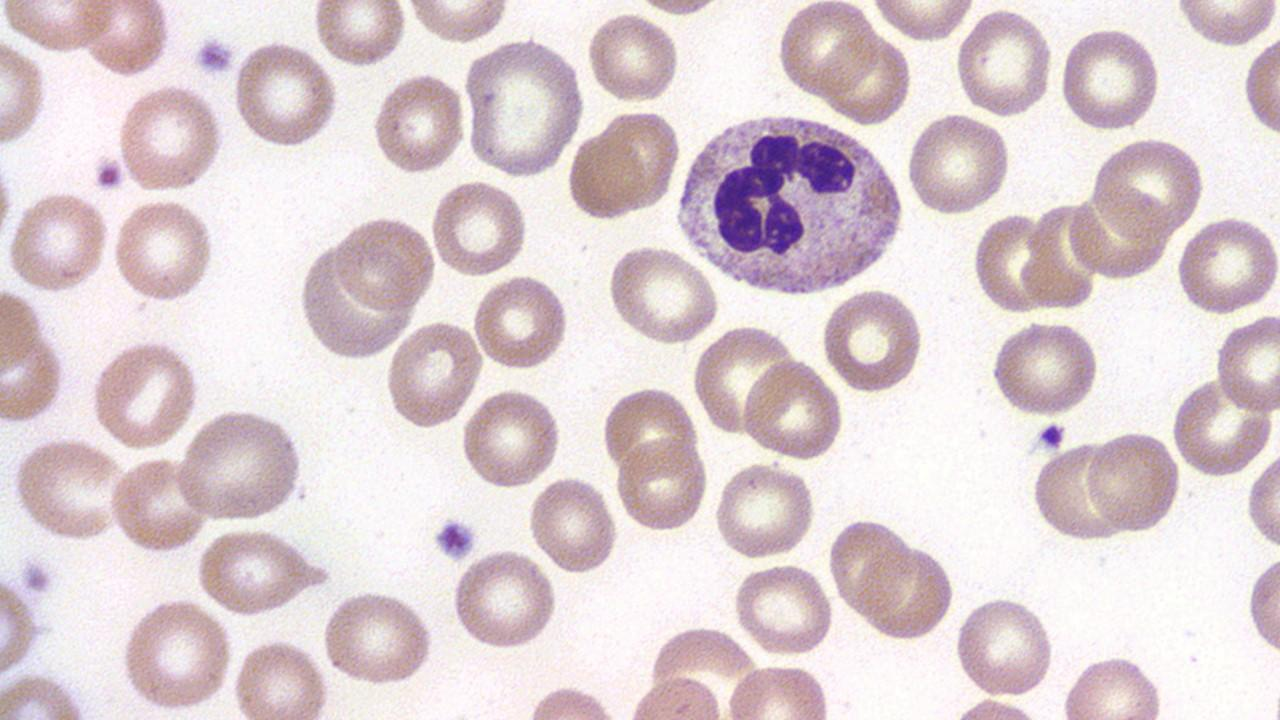Platelets: (430, 514, 480, 562), (193, 33, 237, 77), (1036, 420, 1068, 452)
RBC: (0, 0, 371, 454), (947, 314, 1280, 720), (955, 0, 1280, 339), (460, 33, 586, 182), (175, 408, 308, 522), (297, 245, 419, 362), (117, 595, 235, 713), (87, 335, 203, 450), (192, 526, 337, 617), (9, 437, 132, 543), (115, 82, 226, 195), (1090, 133, 1208, 236), (233, 38, 340, 151), (605, 242, 720, 347), (321, 586, 438, 688), (904, 110, 1014, 218), (818, 285, 926, 395), (952, 5, 1055, 120), (986, 318, 1104, 418), (1056, 25, 1164, 133), (691, 322, 793, 436), (110, 196, 217, 304), (450, 548, 560, 653), (952, 590, 1056, 700), (1169, 374, 1277, 479), (7, 189, 112, 296), (742, 357, 848, 462), (383, 320, 485, 429), (710, 459, 820, 560), (1173, 214, 1279, 318), (459, 386, 565, 490), (332, 213, 438, 315), (1084, 427, 1182, 536), (1028, 439, 1128, 543), (730, 560, 836, 658), (370, 70, 468, 176), (428, 177, 530, 278), (774, 1, 876, 100), (110, 454, 210, 554), (856, 542, 956, 642), (470, 272, 570, 371), (594, 106, 684, 214), (612, 438, 710, 536), (584, 9, 682, 107), (600, 384, 700, 480), (526, 474, 620, 576), (564, 124, 658, 223), (820, 30, 913, 126), (972, 211, 1055, 315), (826, 516, 912, 616), (230, 638, 332, 716), (0, 312, 67, 427), (1058, 652, 1168, 717), (722, 658, 836, 720), (81, 2, 174, 78), (1212, 311, 1280, 414), (310, 0, 408, 70), (1, 1, 116, 56), (0, 29, 49, 151), (1170, 1, 1278, 48), (865, 0, 978, 43), (403, 1, 510, 45), (0, 568, 42, 680), (0, 284, 47, 377), (1240, 33, 1280, 137), (1245, 548, 1279, 658), (1245, 450, 1279, 552), (636, 0, 720, 18)
WBC: (670, 104, 908, 302)
